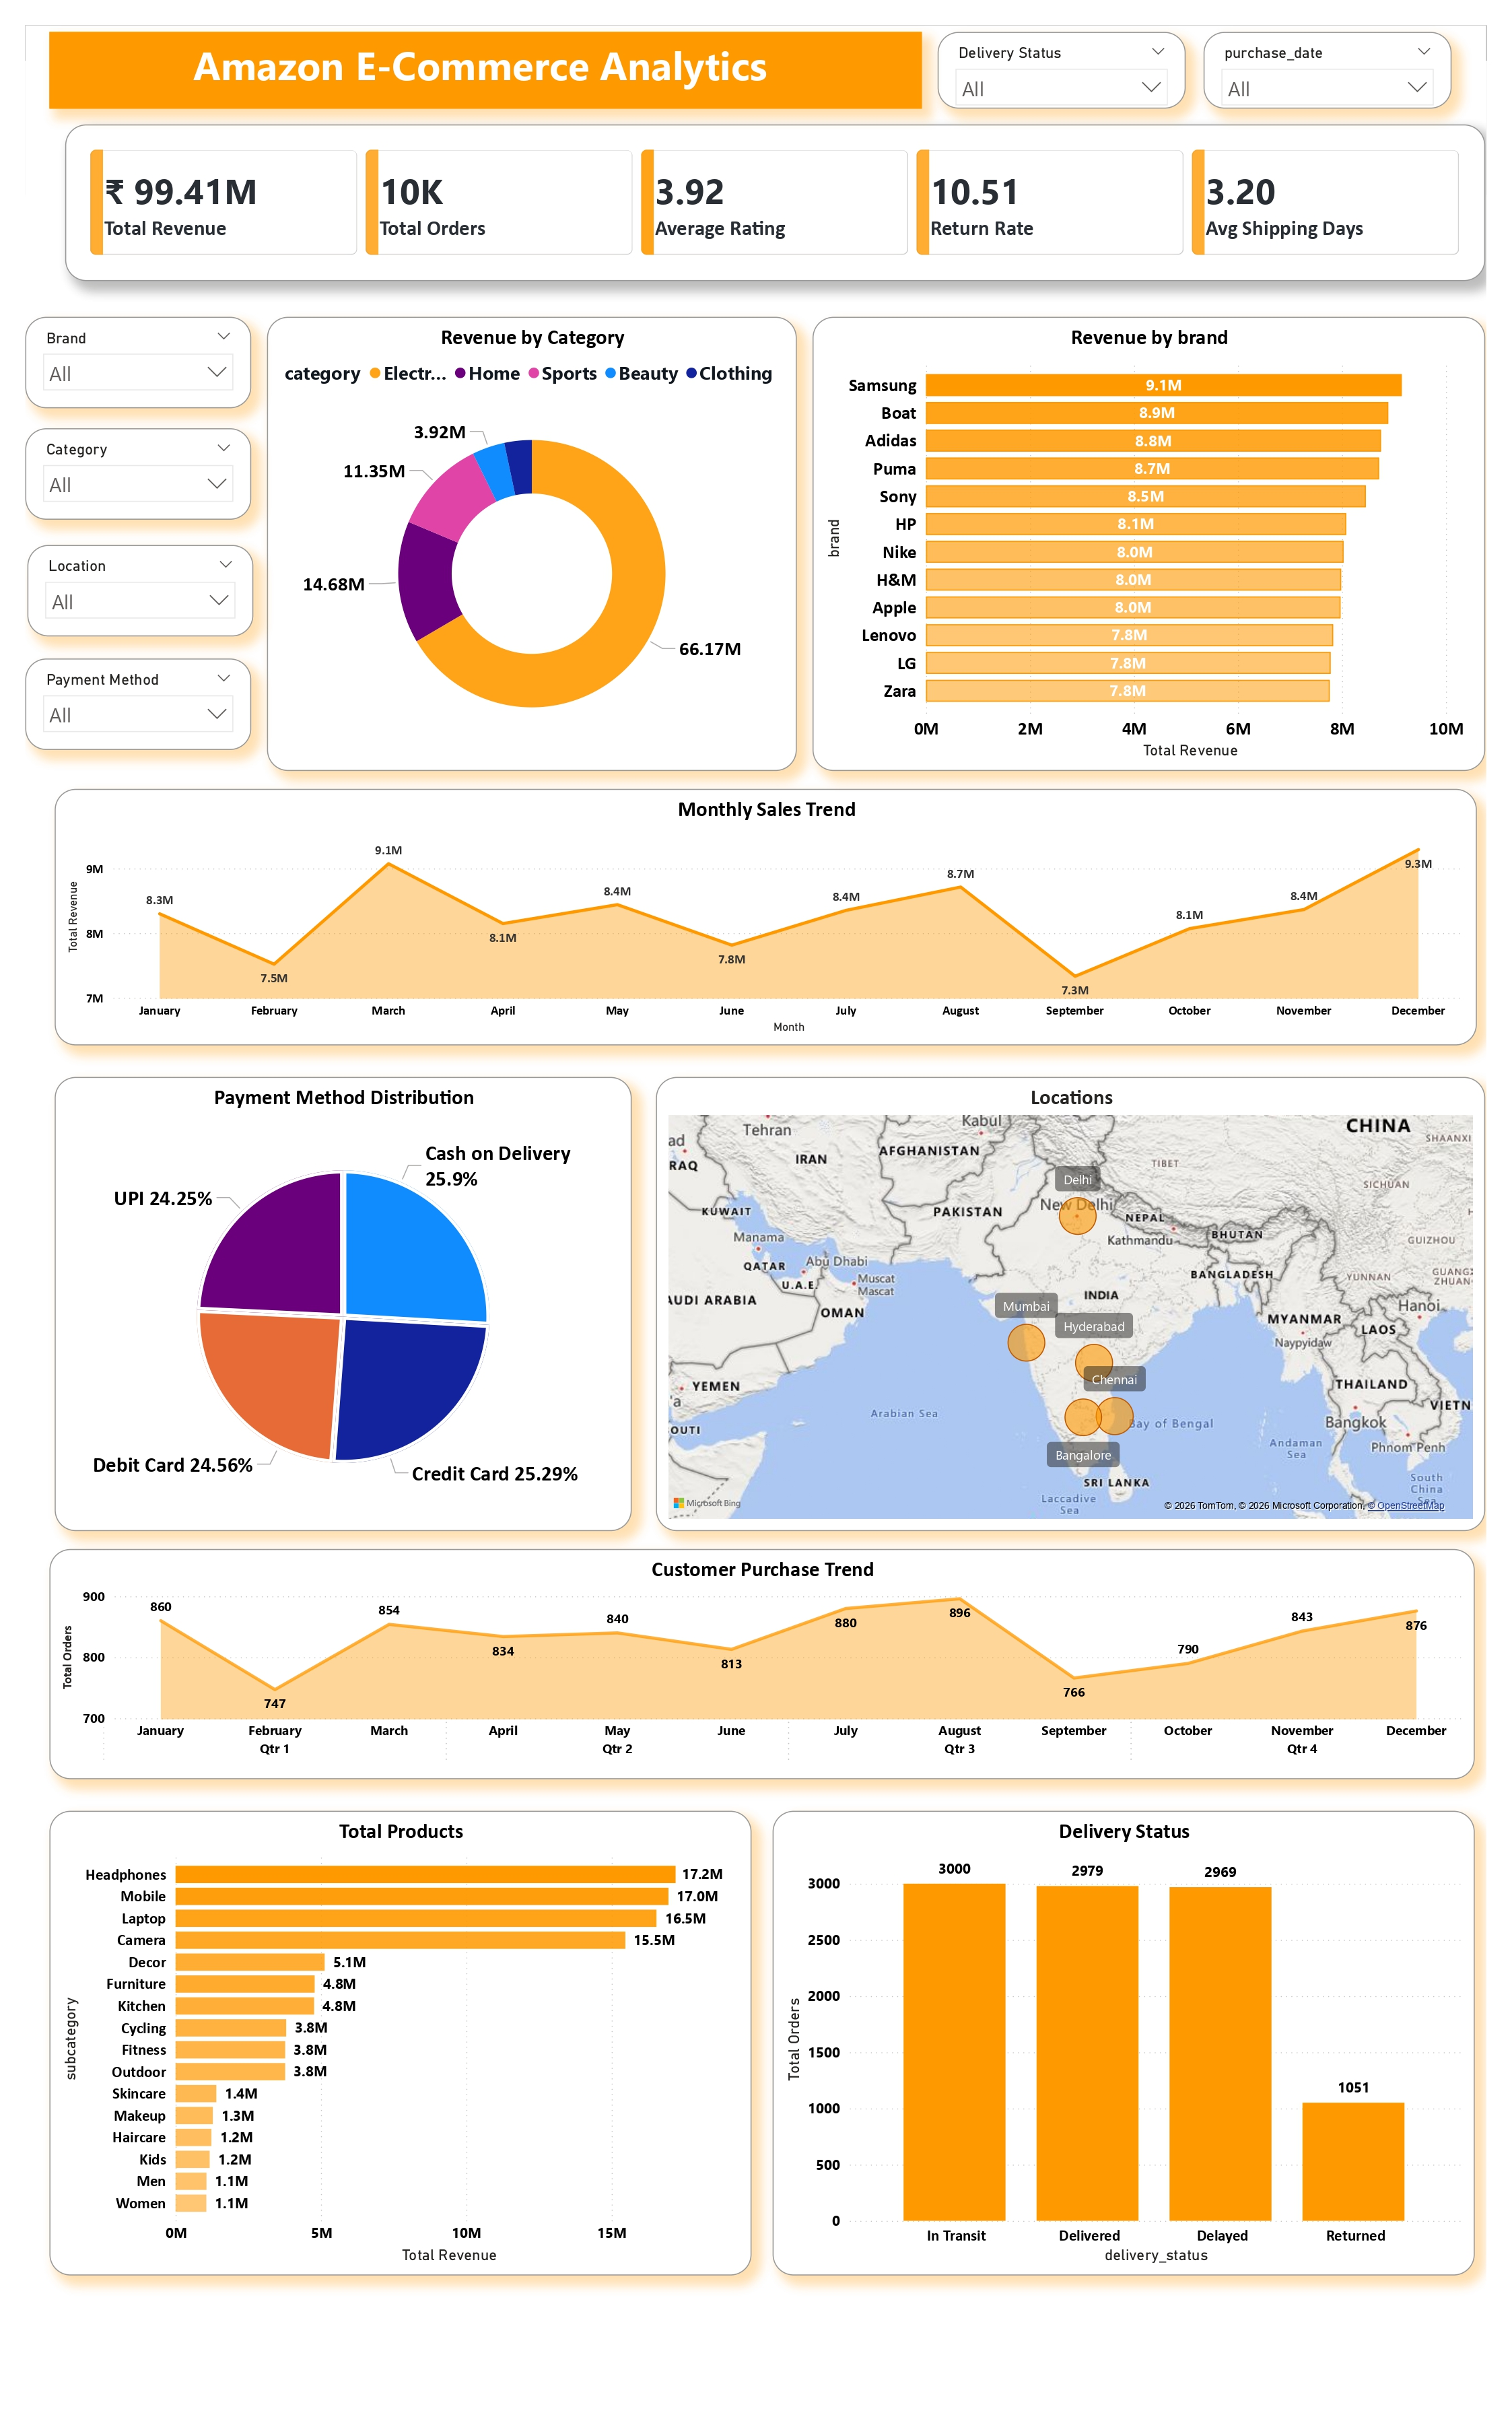

Layout of this report page (visuals, bound fields, positions):
{"tool":"powerbi","page":{"name":"Page 1","canvas":[1390,2250],"ordinal":0},"visuals":[{"type":"cardVisual","fields":{"Data":["Table.Total Revenue","Table.Total Orders","Table.Average Rating","Table.Return Rate","Avg(amazon_ecomm.shipping_time_days)"]},"box":[38.3,93.6,1351.1,148.9],"z":0},{"type":"donutChart","title":"Revenue by Category","fields":{"Y":["Table.Total Revenue"],"Category":["amazon_ecomm.category"]},"box":[229.8,276.6,504.3,431.9],"z":1000},{"type":"lineChart","title":"Monthly Sales Trend","fields":{"Y":["Table.Total Revenue"],"Category":["amazon_ecomm.purchase_date.Variation.Date Hierarchy.Month"]},"box":[27.7,725.5,1353.2,244.7],"z":2000},{"type":"barChart","title":"Revenue by brand","fields":{"Y":["Table.Total Revenue"],"Category":["amazon_ecomm.brand"]},"box":[748.9,276.6,640.4,431.9],"z":3000},{"type":"pieChart","title":"Payment Method Distribution","fields":{"Category":["amazon_ecomm.payment_method"],"Y":["Table.Total Revenue"]},"box":[27.7,1000,548.9,431.9],"z":4000},{"type":"map","title":"Locations","fields":{"Size":["Table.Total Orders"],"Category":["amazon_ecomm.location"]},"box":[600,1000,789.4,431.9],"z":5000},{"type":"areaChart","title":"Customer Purchase Trend","fields":{"Y":["Table.Total Orders"],"Category":["amazon_ecomm.purchase_date.Variation.Date Hierarchy.Quarter","amazon_ecomm.purchase_date.Variation.Date Hierarchy.Month"]},"box":[23.4,1448.9,1355.3,219.1],"z":6000},{"type":"barChart","title":"Total Products","fields":{"Category":["amazon_ecomm.subcategory"],"Y":["Table.Total Revenue"]},"box":[23.4,1697.9,668.1,442.6],"z":7000},{"type":"columnChart","title":"Delivery Status","fields":{"Category":["amazon_ecomm.delivery_status"],"Y":["Table.Total Orders"]},"box":[710.6,1697.9,668.1,442.6],"z":8000},{"type":"slicer","title":"Brand","fields":{"Values":["amazon_ecomm.brand"]},"box":[0,276.6,214.9,87.2],"z":9000},{"type":"slicer","title":"Brand","fields":{"Values":["amazon_ecomm.category"]},"box":[0,383,214.9,87.2],"z":10000},{"type":"slicer","title":"Brand","fields":{"Values":["amazon_ecomm.location"]},"box":[2.1,493.6,214.9,87.2],"z":11000},{"type":"slicer","title":"Brand","fields":{"Values":["amazon_ecomm.payment_method"]},"box":[0,602.1,214.9,87.2],"z":12000},{"type":"slicer","title":"Brand","fields":{"Values":["amazon_ecomm.delivery_status"]},"box":[868.1,6.4,236.2,72.3],"z":13000},{"type":"slicer","title":"Brand","fields":{"Values":["amazon_ecomm.purchase_date"]},"box":[1121.3,6.4,236.2,72.3],"z":14000},{"type":"textbox","box":[23.4,6.4,829.8,72.3],"z":15000}]}

Visuals, with their boxes on the page's 1390x2250 design canvas (x1, y1, x2, y2). These are canvas units, not pixel positions in the 1512x2417 screenshot, which may show the page scaled, cropped or inside an application window:
cardVisual - Table.Total Revenue x Table.Total Orders: detection(38, 94, 1389, 242)
"Revenue by Category" donutChart: detection(230, 277, 734, 708)
"Monthly Sales Trend" lineChart: detection(28, 726, 1381, 970)
"Revenue by brand" barChart: detection(749, 277, 1389, 708)
"Payment Method Distribution" pieChart: detection(28, 1000, 577, 1432)
"Locations" map: detection(600, 1000, 1389, 1432)
"Customer Purchase Trend" areaChart: detection(23, 1449, 1379, 1668)
"Total Products" barChart: detection(23, 1698, 692, 2140)
"Delivery Status" columnChart: detection(711, 1698, 1379, 2140)
"Brand" slicer: detection(0, 277, 215, 364)
"Brand" slicer: detection(0, 383, 215, 470)
"Brand" slicer: detection(2, 494, 217, 581)
"Brand" slicer: detection(0, 602, 215, 689)
"Brand" slicer: detection(868, 6, 1104, 79)
"Brand" slicer: detection(1121, 6, 1358, 79)
textbox: detection(23, 6, 853, 79)
